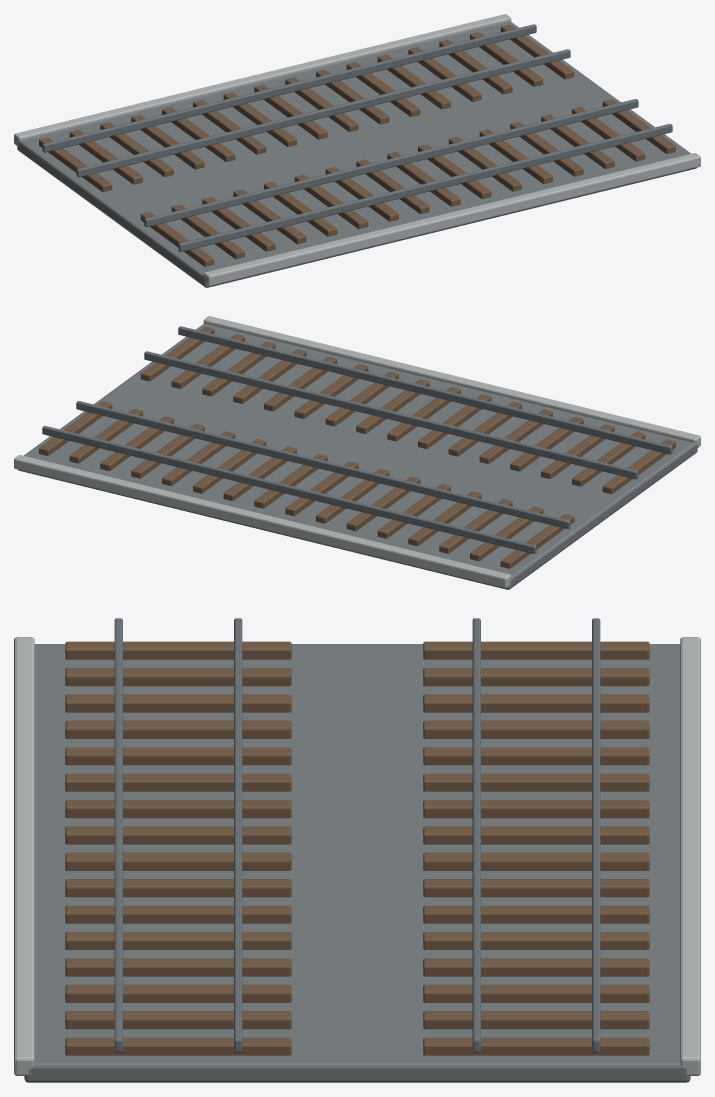
The model's file is SM_SolCity_DoubleTrack_01.fbx.
3 renders of one model, top to bottom at view 1: azimuth 30°, elevation 25°; view 2: azimuth 150°, elevation 25°; view 3: azimuth 270°, elevation 25°, orthographic. The views are drawn at different scales.
Parts seen in each view (by area): view 1: SM_SolCity_DoubleTrack_01; view 2: SM_SolCity_DoubleTrack_01; view 3: SM_SolCity_DoubleTrack_01.
Boxes of the visible parts, x1,y1,x2,y2 form: SM_SolCity_DoubleTrack_01: (14, 14, 700, 287); SM_SolCity_DoubleTrack_01: (14, 316, 700, 589); SM_SolCity_DoubleTrack_01: (14, 618, 700, 1082).
Size of the model in its own units: 12 by 8.25 by 0.59.
